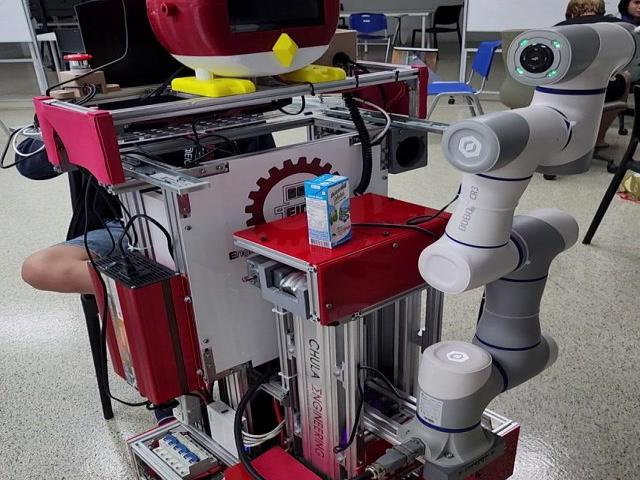drink_box: (294, 170, 366, 255)
